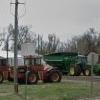Tractor: (18, 49, 64, 84)
